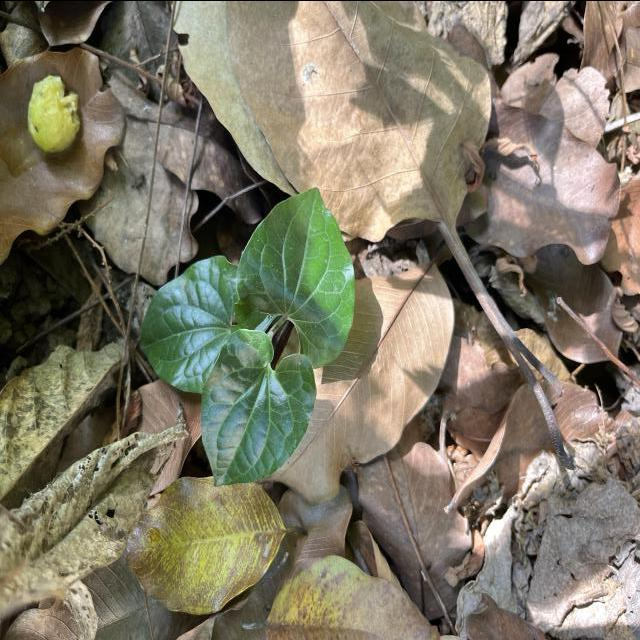Piper longum: (232, 184, 357, 370), (197, 326, 319, 488), (138, 251, 238, 396)
